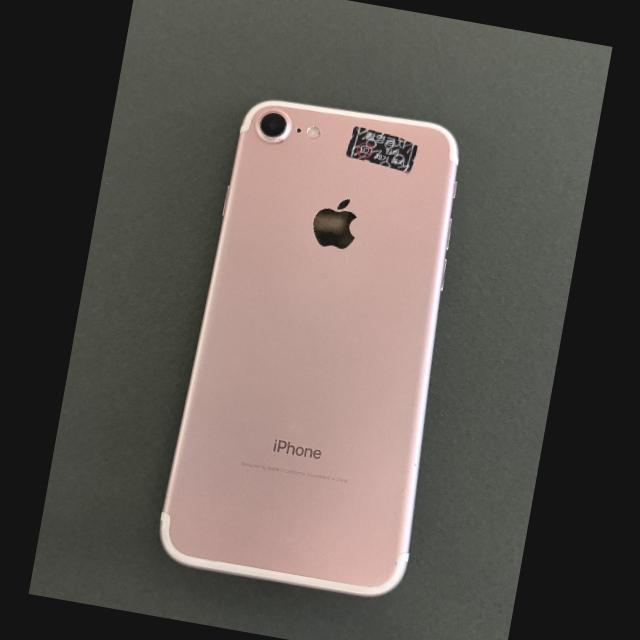lens: (260, 112, 287, 138)
phone: (159, 100, 458, 596)
sticker: (345, 125, 416, 171)
